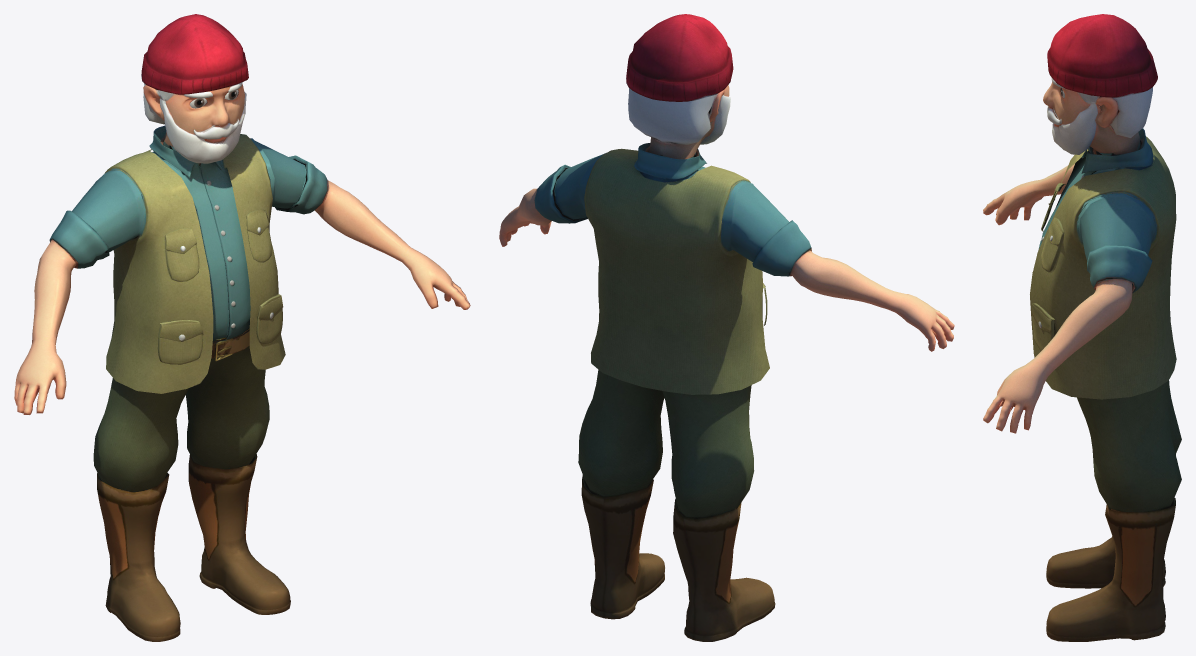
File: model_chunk_1.glb
3 views of the same model, side by side, from view 1: azimuth 30°, elevation 25°; view 2: azimuth 150°, elevation 25°; view 3: azimuth 270°, elevation 25° (orthographic).
Parts seen in each view (by area): view 1: Noah_hunter_body001; view 2: Noah_hunter_body001; view 3: Noah_hunter_body001.
Boxes of the visible parts, x1,y1,x2,y2 form: Noah_hunter_body001: (14, 14, 470, 641); Noah_hunter_body001: (499, 14, 954, 641); Noah_hunter_body001: (983, 14, 1181, 641).
Bounding box in the file's own units: 1.5 × 1.9 × 0.5804.
1 material, 1 textured.
